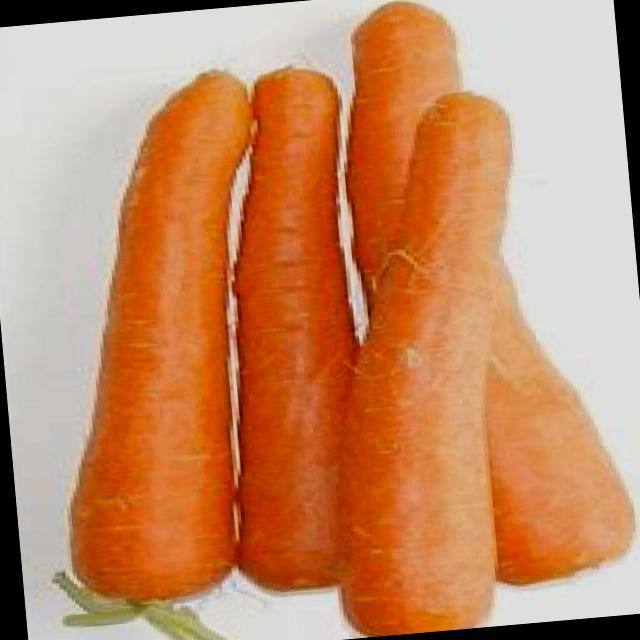carrot: (59, 70, 248, 599), (336, 90, 513, 636), (232, 79, 366, 587)
